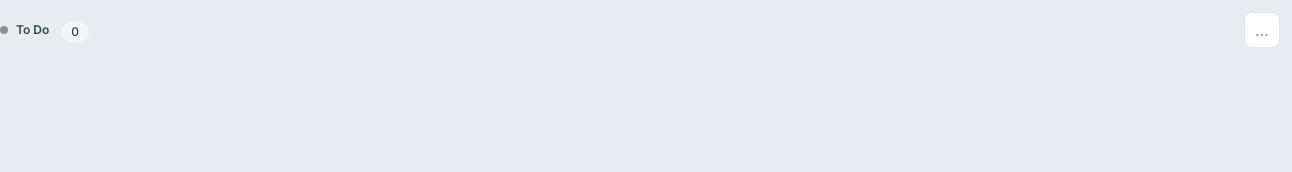
Scenario: ColumnHeader › column actions menu › calls onColumnDelete from the menu and no standalone delete button exists
Expected: the button "Delete column" is not shown
Click the button named "Column actions for To Do" at (1262, 30), box [1244,12,1280,48]
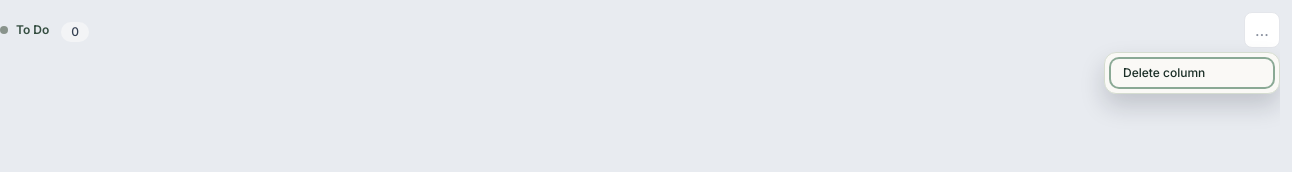
Click the menu item "Delete column" at (1192, 73), box [1111,59,1273,87]
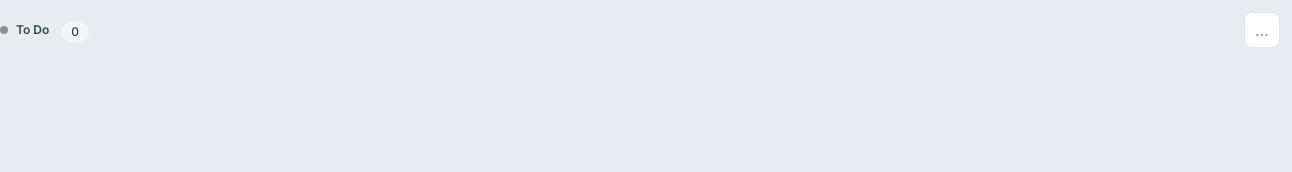
Expected: the menu is gone
